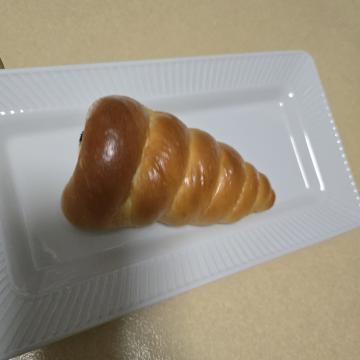cream horn: (82, 75, 260, 308)
